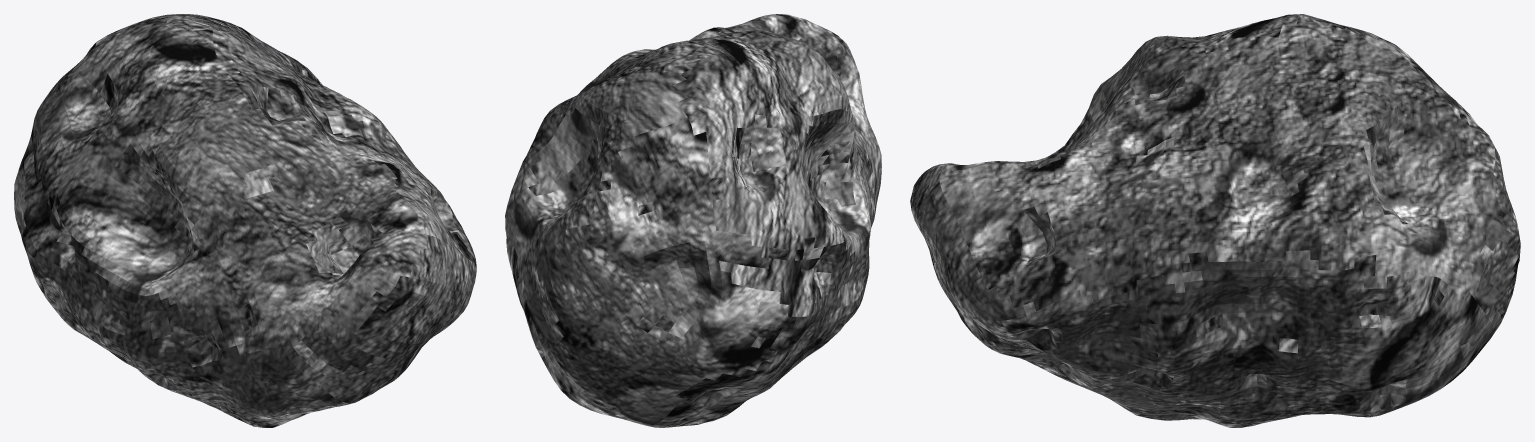
Rendered from asteroid.fbx.
3 renders of one model, left to right at view 1: azimuth 30°, elevation 25°; view 2: azimuth 150°, elevation 25°; view 3: azimuth 270°, elevation 25°, orthographic. The views are drawn at different scales.
Visible parts, largest first — view 1: asteroid_uv:Group1; view 2: asteroid_uv:Group1; view 3: asteroid_uv:Group1.
Part boxes in pixels (x1,y1,x2,y2): asteroid_uv:Group1: (14,14,476,427); asteroid_uv:Group1: (505,14,881,427); asteroid_uv:Group1: (910,14,1520,427).
Size of the model in its own units: 46.98 by 53.92 by 77.41.
Materials: 1 (1 with a texture image).
